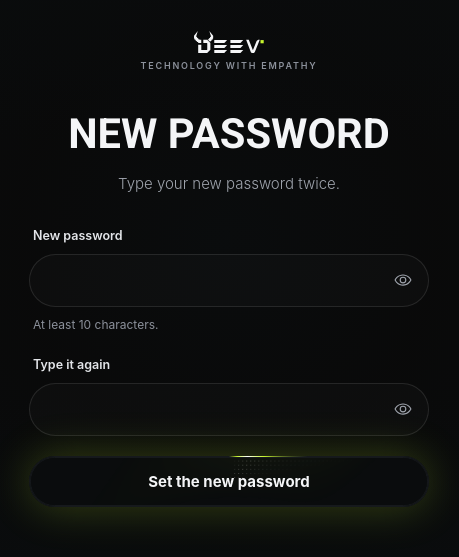
opening a reset link › catches a typo in the second box without asking the server
In the password field labelled "New password": (229, 280) [29,254,429,307], type "a-brand-new-password"
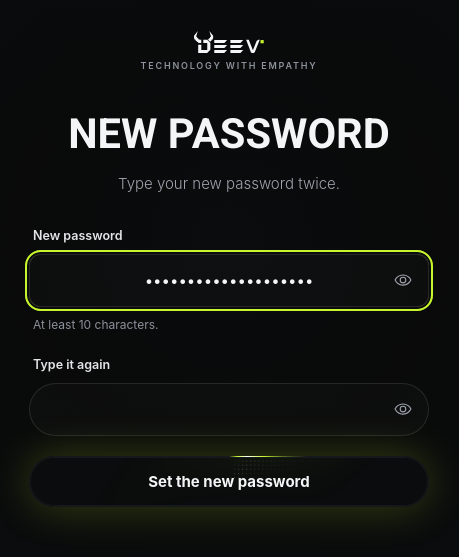
In the password field labelled "Type it again": (229, 409) [29,383,429,436], type "a-brand-new-passwrod"
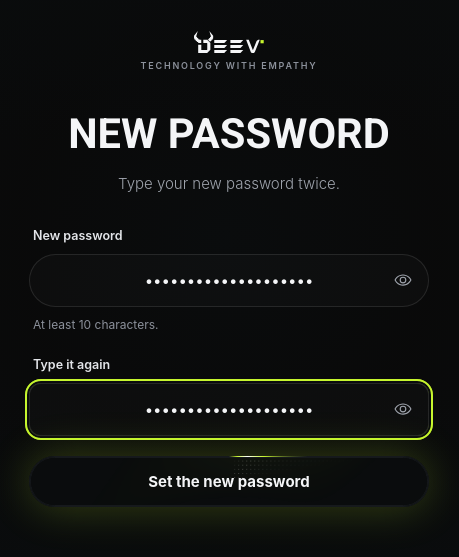
Click the button "Set the new password": (229, 482) [29,456,429,507]
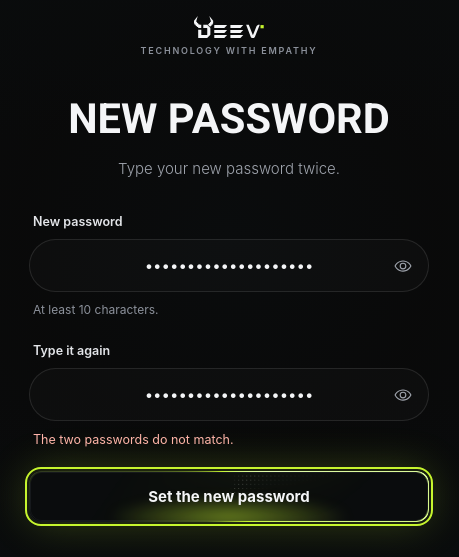
Check: the message reads "The two passwords do not match.", box [33,432,234,447]
